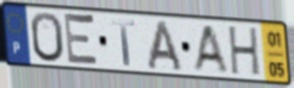A: (145, 18, 185, 73), (190, 24, 230, 73)
E: (62, 10, 101, 70)
H: (228, 25, 262, 79)
O: (29, 11, 66, 65)
T: (110, 18, 137, 68)
